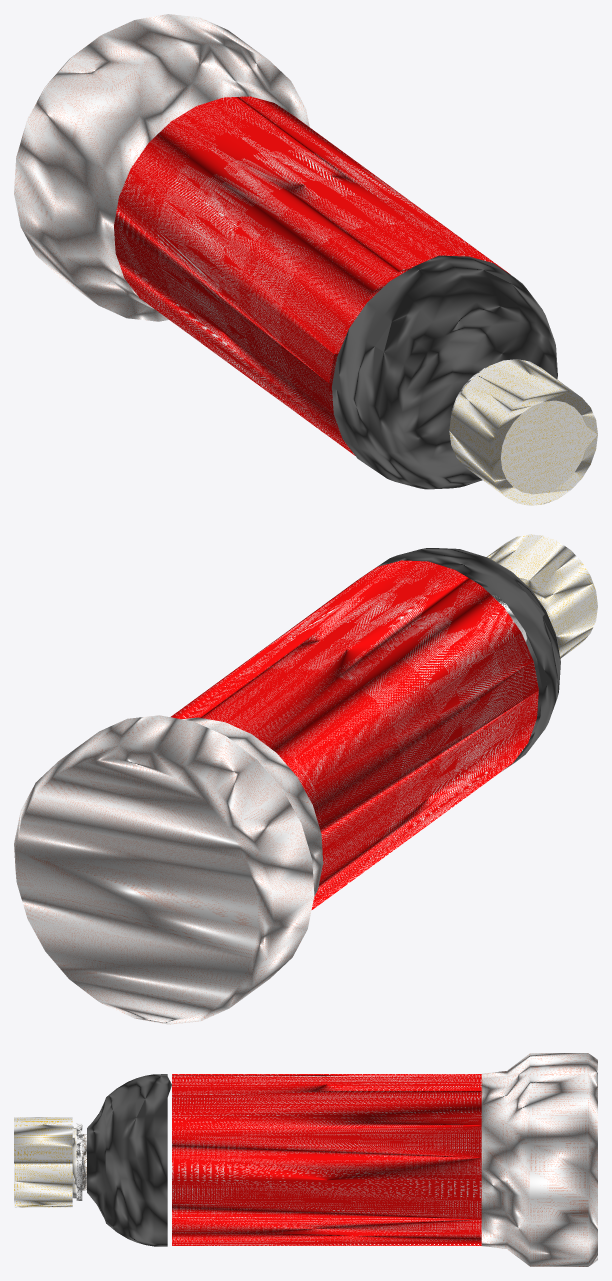
Rendered from model_align.obj.
3 views of the same model, one above another, from view 1: azimuth 30°, elevation 25°; view 2: azimuth 150°, elevation 25°; view 3: azimuth 270°, elevation 25° (orthographic). The views are drawn at different scales.
Bounding box in the file's own units: 0.0482 × 0.0482 × 0.1311.
